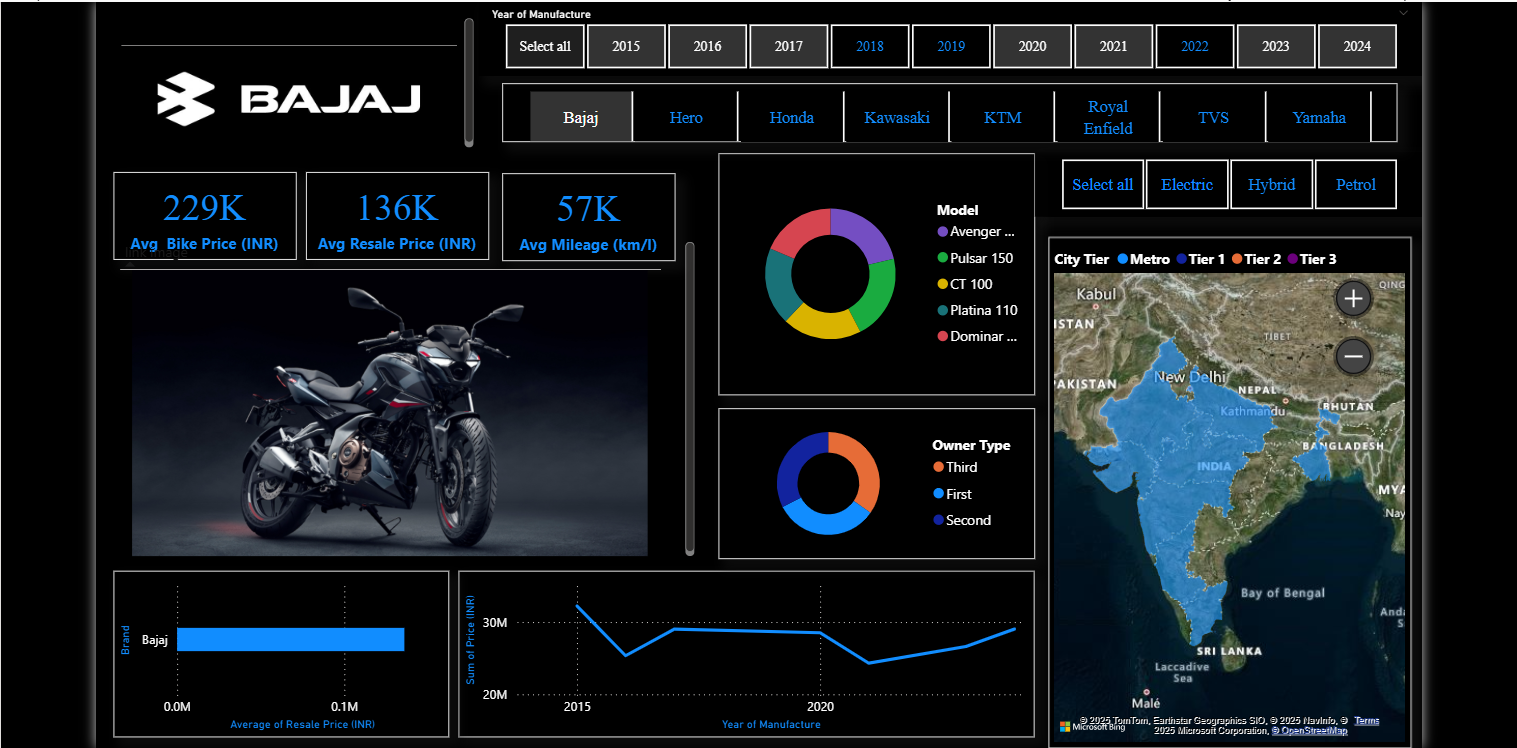

Layout of this report page (visuals, bound fields, positions):
{"tool":"powerbi","page":{"name":"Page 1","canvas":[1280,720],"ordinal":0},"visuals":[{"type":"card","fields":{"Values":["Avg(Sheet1.Price (INR))"]},"box":[16.7,164,176.5,84.8],"z":0},{"type":"card","fields":{"Values":["Avg(Sheet1.Resale Price (INR))"]},"box":[203,164,176.5,84.8],"z":1000},{"type":"card","fields":{"Values":["Sum(Sheet1.Mileage (km/l))"]},"box":[392,165.4,166.8,84.8],"z":2000},{"type":"lineChart","fields":{"Category":["Sheet1.Year of Manufacture"],"Y":["Sum(Sheet1.Price (INR))"]},"box":[349.9,548.9,556.2,160.5],"z":3000},{"type":"barChart","fields":{"Category":["Sheet1.Brand"],"Y":["Avg(Sheet1.Resale Price (INR))"]},"box":[16.5,548.9,323.8,160.5],"z":4000},{"type":"donutChart","fields":{"Category":["Sheet1.Model"],"Y":["CountNonNull(Sheet1.Model)"]},"box":[600.5,146,305.8,233.5],"z":5000},{"type":"donutChart","fields":{"Category":["Sheet1.Owner Type"],"Y":["CountNonNull(Sheet1.Model)"]},"box":[600.5,392,305.8,146],"z":6000},{"type":"slicer","fields":{"Values":["Sheet1.Fuel Type"]},"box":[906.3,144.6,373.9,62.6],"z":7000},{"type":"filledMap","fields":{"Category":["Sheet1.State"],"Series":["Sheet1.City Tier"]},"box":[918.9,226.6,350.3,493.5],"z":8000},{"type":"slicer","fields":{"Values":["Sheet1.Year of Manufacture"]},"box":[369.8,0,910.5,70.9],"z":9000},{"type":"tableEx","fields":{"Values":["Table.link image"]},"box":[16.7,226.6,565.8,312.8],"z":10000},{"type":"slicer","fields":{"Values":["Table.Brand"]},"box":[392.1,78.4,863.8,56.7],"z":11000},{"type":"tableEx","fields":{"Values":["loko (2).logo2"]},"box":[18.1,11.1,351.7,134.8],"z":12000}]}

Visuals, with their boxes on the page's 1280x720 design canvas (x1, y1, x2, y2). These are canvas units, not pixel positions in the 1517x748 screenshot, which may show the page scaled, cropped or inside an application window:
card - Avg(Sheet1.Price (INR)): 17:164:193:249
card - Avg(Sheet1.Resale Price (INR)): 203:164:380:249
card - Sum(Sheet1.Mileage (km/l)): 392:165:559:250
lineChart - Sheet1.Year of Manufacture x Sum(Sheet1.Price (INR)): 350:549:906:709
barChart - Sheet1.Brand x Avg(Sheet1.Resale Price (INR)): 16:549:340:709
donutChart - Sheet1.Model x CountNonNull(Sheet1.Model): 600:146:906:380
donutChart - Sheet1.Owner Type x CountNonNull(Sheet1.Model): 600:392:906:538
slicer - Sheet1.Fuel Type: 906:145:1280:207
filledMap - Sheet1.State x Sheet1.City Tier: 919:227:1269:720
slicer - Sheet1.Year of Manufacture: 370:0:1280:71
tableEx - Table.link image: 17:227:582:539
slicer - Table.Brand: 392:78:1256:135
tableEx - loko (2).logo2: 18:11:370:146
